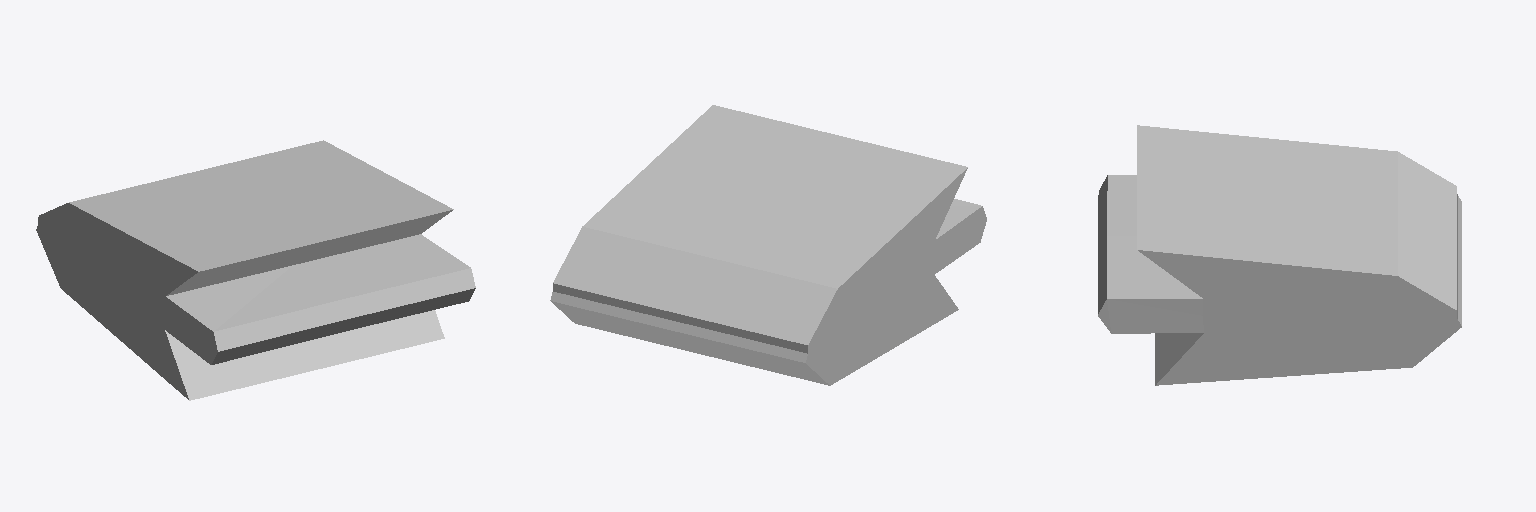
File: butt.obj
3 views of the same model, side by side, from view 1: azimuth 30°, elevation 25°; view 2: azimuth 150°, elevation 25°; view 3: azimuth 270°, elevation 25° (orthographic).
Visible parts, largest first — view 1: Cube_Cube.002; view 2: Cube_Cube.002; view 3: Cube_Cube.002.
Part boxes in pixels (x1,y1,x2,y2): Cube_Cube.002: (36, 140, 475, 400); Cube_Cube.002: (550, 105, 986, 385); Cube_Cube.002: (1098, 125, 1461, 385).
Bounding box in the file's own units: 1.51 × 0.7619 × 1.85.